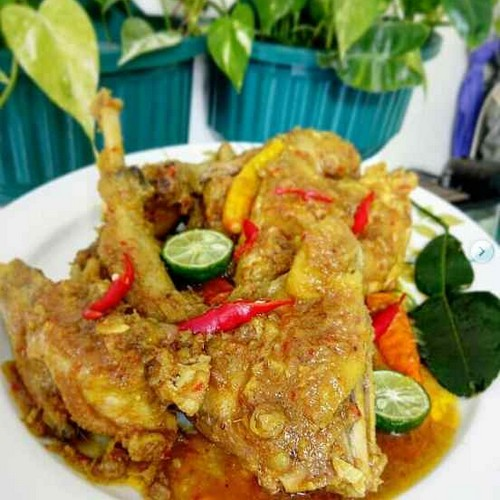ayam betutu: (6, 274, 385, 478)
